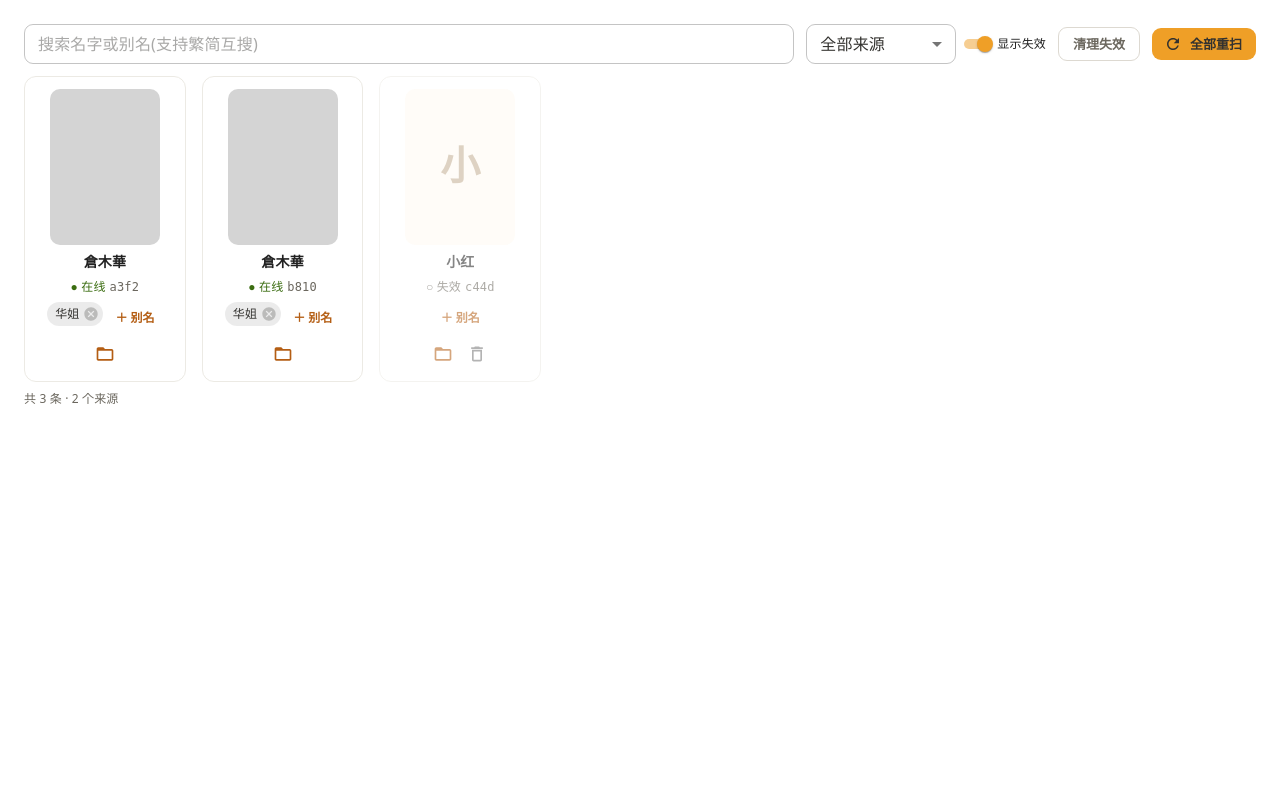
Test: PerformersPage › open failure (404 gone) refetches so the row turns missing
Step 1. Click the button named "打开 小红 的文件夹" → (443,354), box [428,339,458,369]
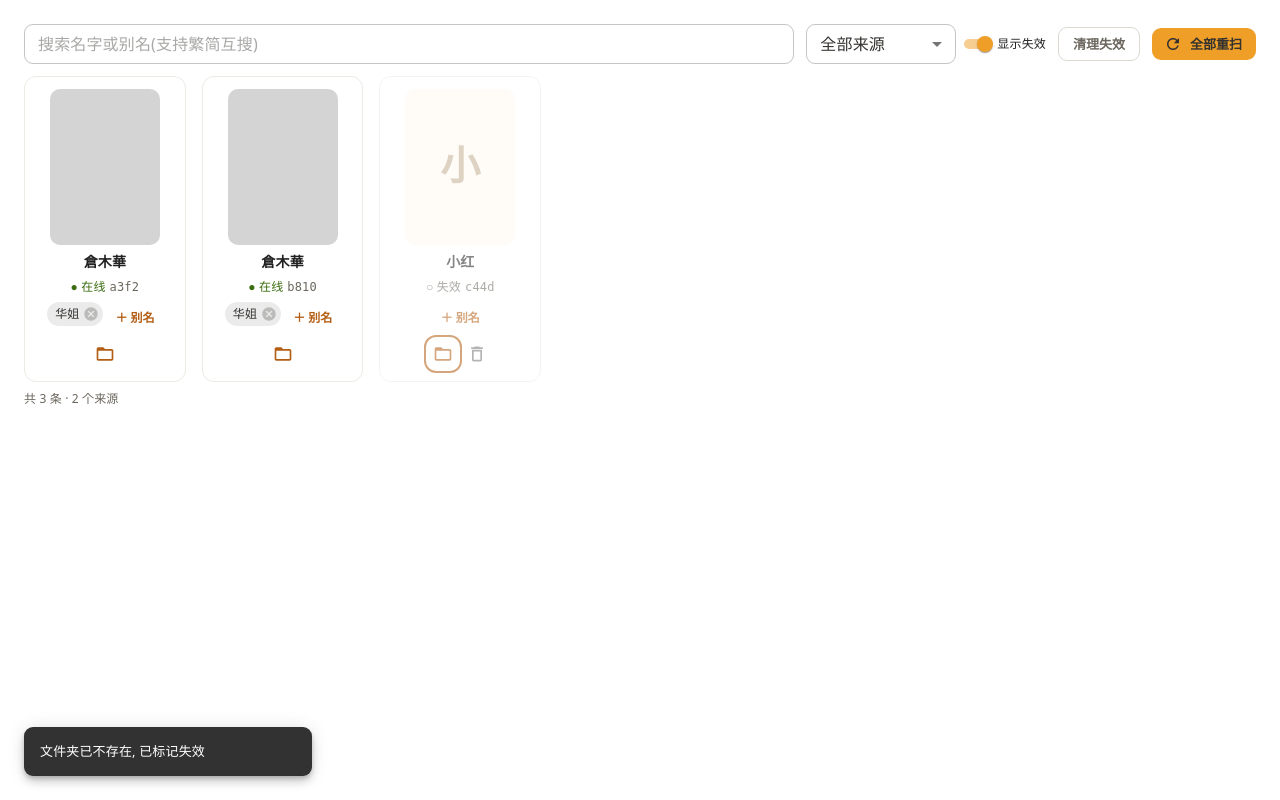
Now the text "文件夹已不存在, 已标记失效" is shown, box [40,742,205,760]
